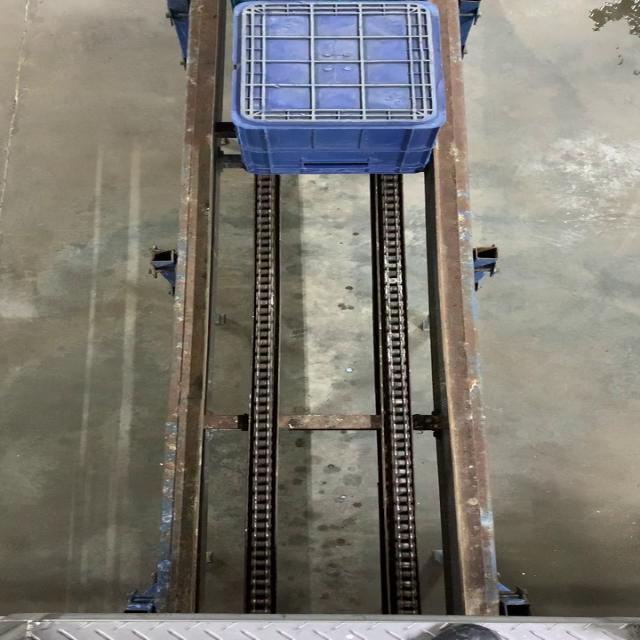Box: (240, 3, 439, 127)
